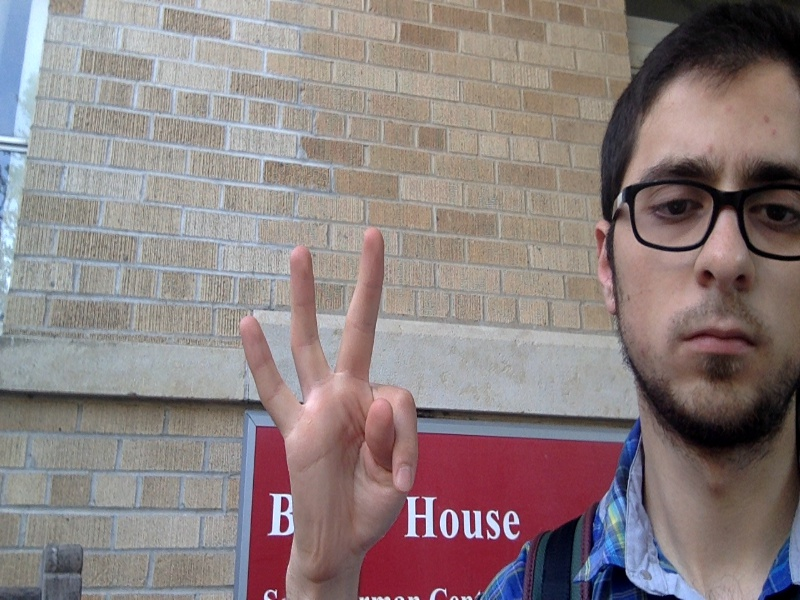3-hand: (238, 227, 416, 570)
